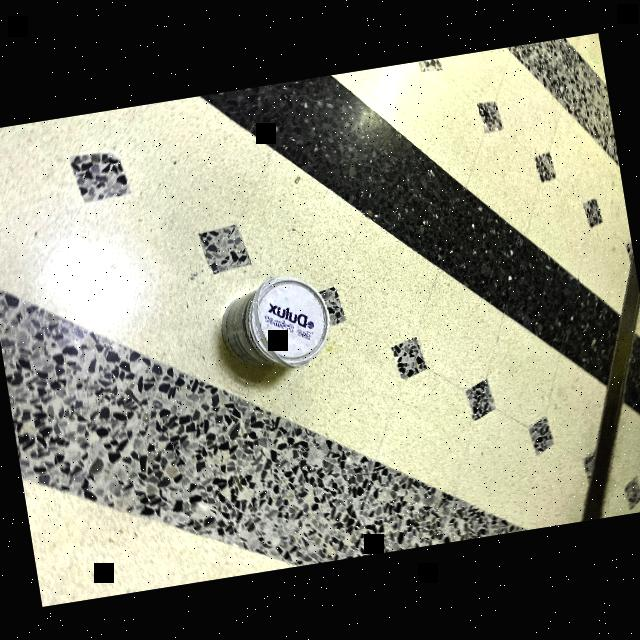paint_bucket: (208, 264, 338, 387)
